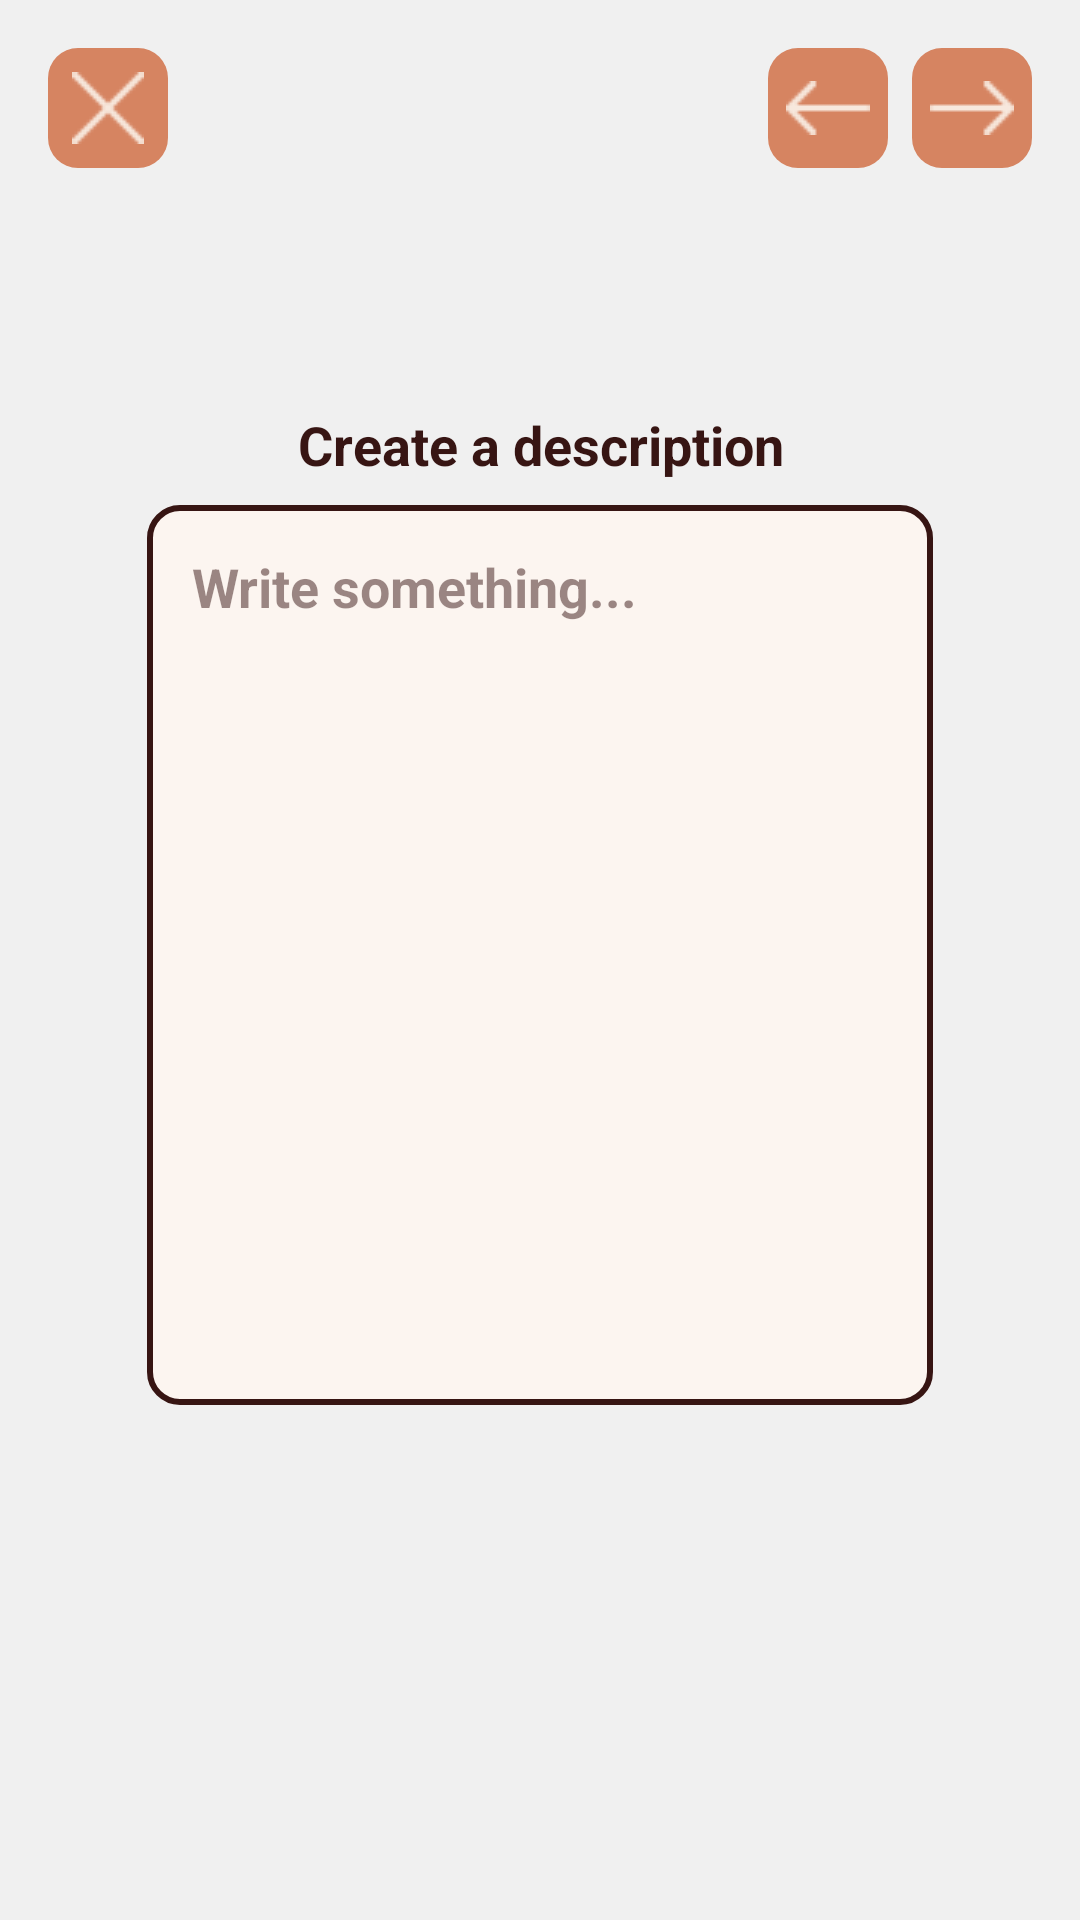

Where icons sit on this 1080w x 1920h app screen, as BBox(x1, y1, x2, y2):
close: BBox(48, 48, 168, 168)
left arrow: BBox(768, 48, 888, 168)
right arrow: BBox(912, 48, 1032, 168)
